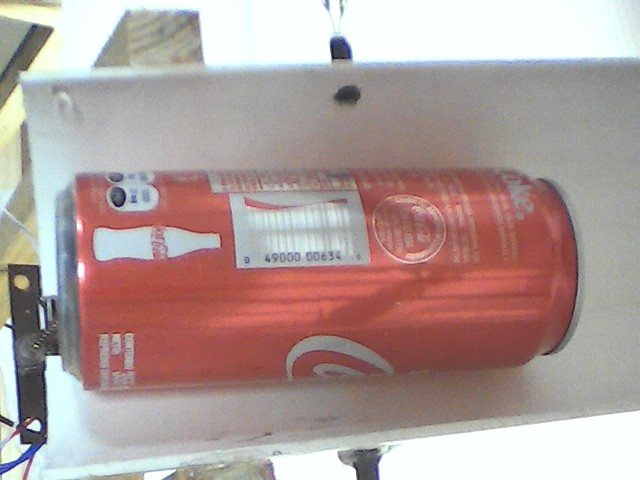lata: (48, 161, 595, 392)
